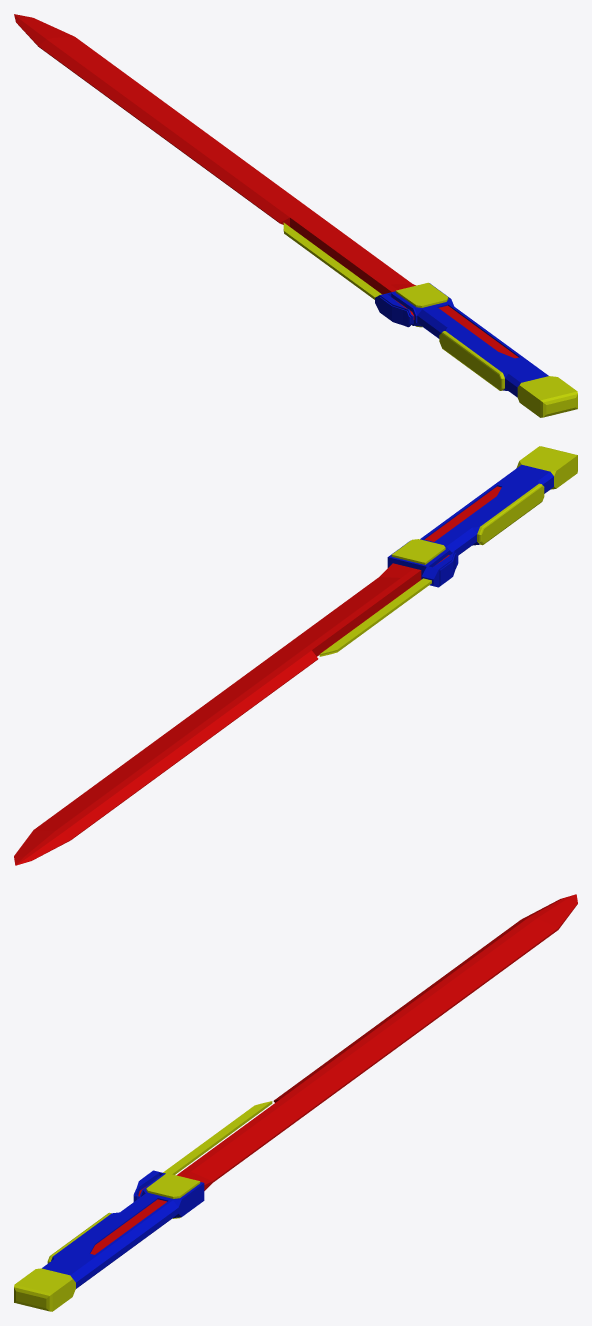
Rendered from sword.fbx.
3 renders of one model, top to bottom at view 1: azimuth 30°, elevation 25°; view 2: azimuth 150°, elevation 25°; view 3: azimuth 330°, elevation 25°, orthographic. The views are drawn at different scales.
Parts seen in each view (by area): view 1: Sword_Blade, Sword_Hilt (×3); view 2: Sword_Blade, Sword_Hilt (×3); view 3: Sword_Blade, Sword_Hilt (×3).
Boxes of the visible parts, bbox=[...] form: Sword_Blade: bbox=[14, 14, 415, 294]; Sword_Hilt (×3): bbox=[283, 222, 577, 417]; Sword_Blade: bbox=[14, 563, 421, 865]; Sword_Hilt (×3): bbox=[319, 446, 577, 656]; Sword_Blade: bbox=[176, 894, 577, 1190]; Sword_Hilt (×3): bbox=[14, 1101, 272, 1311].
Size of the model in its own units: 0.1759 by 0.0712 by 3.24.
